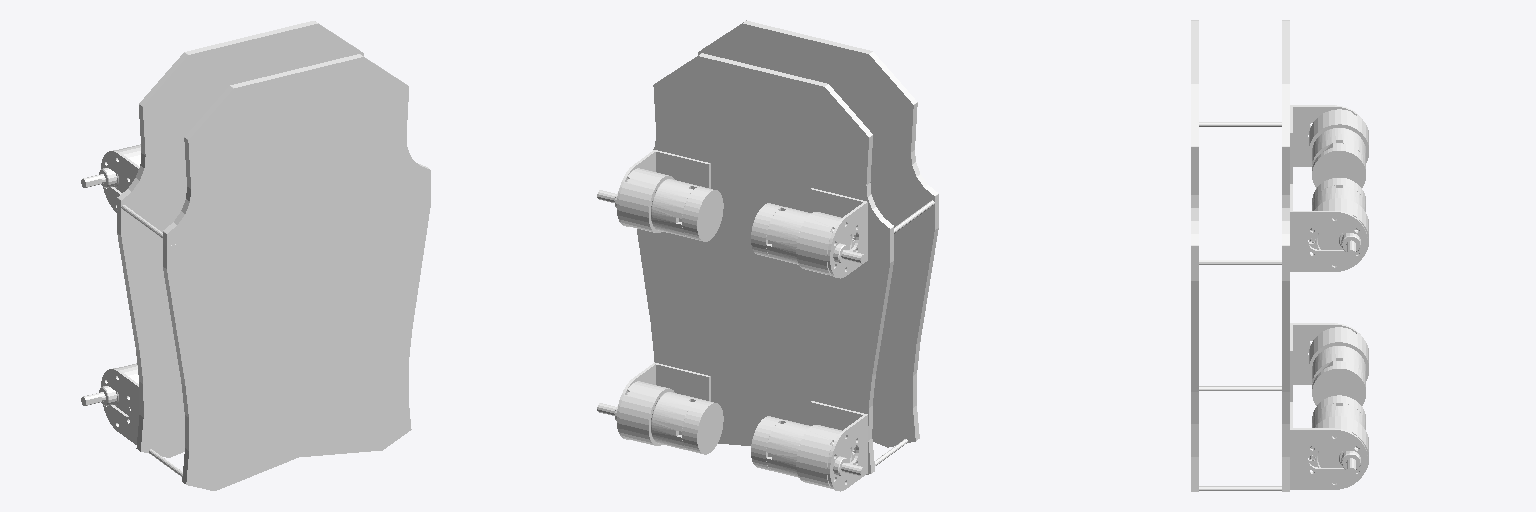
URDF robot description (CyberNaviRobot):
<?xml version="1.0" encoding="utf-8"?>
<robot
  name="CyberNaviRobot">
  <link
    name="base_link">
    <inertial>
      <origin
        xyz="-0.0126930979005275 0.00191328701604972 0.138027242309266"
        rpy="0 0 0" />
      <mass
        value="1.02316767990512" />
      <inertia
        ixx="0.00139586884914313"
        ixy="-1.1634425915606E-06"
        ixz="2.08900696909113E-08"
        iyy="0.00163816424060367"
        iyz="1.3906877128818E-07"
        izz="0.00212627787861002" />
    </inertial>
    <visual>
      <origin
        xyz="-0.14 -0.0925 0"
        rpy="0 0 0" />
      <geometry>
        <mesh
          filename="package://cpp01_urdf/meshes/base_link.STL" />
      </geometry>
      <material
        name="">
        <color
          rgba="1 1 1 1" />
      </material>
    </visual>
    <collision>
      <origin
        xyz="0 0 0"
        rpy="0 0 0" />
      <geometry>
        <mesh
          filename="package://cpp01_urdf/meshes/base_link.STL" />
      </geometry>
    </collision>
  </link>
  <link
    name="left_front_wheel_link">
    <inertial>
      <origin
        xyz="-3.0979511909876E-06 0.0173322020637727 4.43766253017258E-06"
        rpy="0 0 0" />
      <mass
        value="0.0503853041294886" />
      <inertia
        ixx="5.77203859894131E-06"
        ixy="-6.39490308551869E-10"
        ixz="-6.55101507497994E-10"
        iyy="7.74120907350755E-06"
        iyz="1.14467480632514E-09"
        izz="5.77288622221224E-06" />
    </inertial>
    <visual>
      <origin
        xyz="0 0 0"
        rpy="0 0 0" />
      <geometry>
        <mesh
          filename="package://cpp01_urdf/meshes/left_front_wheel_link.STL" />
      </geometry>
      <material
        name="">
        <color
          rgba="1 1 1 1" />
      </material>
    </visual>
    <collision>
      <origin
        xyz="0 0 0"
        rpy="0 0 0" />
      <geometry>
        <mesh
          filename="package://cpp01_urdf/meshes/left_front_wheel_link.STL" />
      </geometry>
    </collision>
  </link>
  <joint
    name="left_front_wheel_joint"
    type="continuous">
    <origin
      xyz="0.094976 0.076703 0.038001"
      rpy="0 0 0" />
    <parent
      link="base_link" />
    <child
      link="left_front_wheel_link" />
    <axis
      xyz="0 1 0" />
  </joint>
  <link
    name="left_rear_wheel_link">
    <inertial>
      <origin
        xyz="-3.06188346035907E-06 0.017331873242395 -5.84140984641324E-06"
        rpy="0 0 0" />
      <mass
        value="0.0503852022031433" />
      <inertia
        ixx="5.7719914844331E-06"
        ixy="-6.47591418647473E-10"
        ixz="6.3996728285628E-10"
        iyy="7.74122667602425E-06"
        iyz="-1.13209672720901E-09"
        izz="5.77285855433357E-06" />
    </inertial>
    <visual>
      <origin
        xyz="0 0 0"
        rpy="0 0 0" />
      <geometry>
        <mesh
          filename="package://cpp01_urdf/meshes/left_rear_wheel_link.STL" />
      </geometry>
      <material
        name="">
        <color
          rgba="1 1 1 1" />
      </material>
    </visual>
    <collision>
      <origin
        xyz="0 0 0"
        rpy="0 0 0" />
      <geometry>
        <mesh
          filename="package://cpp01_urdf/meshes/left_rear_wheel_link.STL" />
      </geometry>
    </collision>
  </link>
  <joint
    name="left_rear_wheel_joint"
    type="continuous">
    <origin
      xyz="-0.078024 0.076703 0.038001"
      rpy="0 0 0" />
    <parent
      link="base_link" />
    <child
      link="left_rear_wheel_link" />
    <axis
      xyz="0 1 0" />
  </joint>
  <link
    name="right_front_wheel_link">
    <inertial>
      <origin
        xyz="3.06240360546661E-06 -0.0173318735620233 -5.84117647387666E-06"
        rpy="0 0 0" />
      <mass
        value="0.0503852021760132" />
      <inertia
        ixx="5.77199099297903E-06"
        ixy="-6.47832070333766E-10"
        ixz="-6.39570296767498E-10"
        iyy="7.74122684098967E-06"
        iyz="1.13229861557678E-09"
        izz="5.7728593340892E-06" />
    </inertial>
    <visual>
      <origin
        xyz="0 0 0"
        rpy="0 0 0" />
      <geometry>
        <mesh
          filename="package://cpp01_urdf/meshes/right_front_wheel_link.STL" />
      </geometry>
      <material
        name="">
        <color
          rgba="1 1 1 1" />
      </material>
    </visual>
    <collision>
      <origin
        xyz="0 0 0"
        rpy="0 0 0" />
      <geometry>
        <mesh
          filename="package://cpp01_urdf/meshes/right_front_wheel_link.STL" />
      </geometry>
    </collision>
  </link>
  <joint
    name="right_front_wheel_joint"
    type="continuous">
    <origin
      xyz="0.094976 -0.075297 0.038001"
      rpy="0 0 0" />
    <parent
      link="base_link" />
    <child
      link="right_front_wheel_link" />
    <axis
      xyz="0 1 0" />
  </joint>
  <link
    name="right_rear_wheel_link">
    <inertial>
      <origin
        xyz="3.09795119093903E-06 -0.0173322020637727 4.43766253057504E-06"
        rpy="0 0 0" />
      <mass
        value="0.0503853041294886" />
      <inertia
        ixx="5.77203859894127E-06"
        ixy="-6.39490308545873E-10"
        ixz="6.55101507484353E-10"
        iyy="7.7412090735075E-06"
        iyz="-1.14467480634659E-09"
        izz="5.77288622221223E-06" />
    </inertial>
    <visual>
      <origin
        xyz="0 0 0"
        rpy="0 0 0" />
      <geometry>
        <mesh
          filename="package://cpp01_urdf/meshes/right_rear_wheel_link.STL" />
      </geometry>
      <material
        name="">
        <color
          rgba="1 1 1 1" />
      </material>
    </visual>
    <collision>
      <origin
        xyz="0 0 0"
        rpy="0 0 0" />
      <geometry>
        <mesh
          filename="package://cpp01_urdf/meshes/right_rear_wheel_link.STL" />
      </geometry>
    </collision>
  </link>
  <joint
    name="right_rear_wheel_joint"
    type="continuous">
    <origin
      xyz="-0.078024 -0.075297 0.038001"
      rpy="0 0 0" />
    <parent
      link="base_link" />
    <child
      link="right_rear_wheel_link" />
    <axis
      xyz="0 1 0" />
  </joint>
</robot>

--- Facts derived from the render (not from the file) ---
3 views of the same robot in one strip: view 1: azimuth 30°, elevation 25°; view 2: azimuth 150°, elevation 25°; view 3: azimuth 270°, elevation 25° (orthographic).
Model CyberNaviRobot with 5 links and 4 joints (4 continuous), rooted at base_link, posed all joints at 0.
Links seen in each view (by area): view 1: base_link; view 2: base_link; view 3: base_link.
Boxes of the visible links, x1=… form: base_link: x1=81, y1=21, x2=430, y2=490; base_link: x1=597, y1=20, x2=938, y2=491; base_link: x1=1191, y1=20, x2=1368, y2=491.
Size in the robot's own frame: 0.188 by 0.1079 by 0.2652 metres.
Meshes: 5 distinct files referenced, 1 mesh visuals loaded (1 binary STL); not drawn: 4 (reference not matched to a file when rendering).